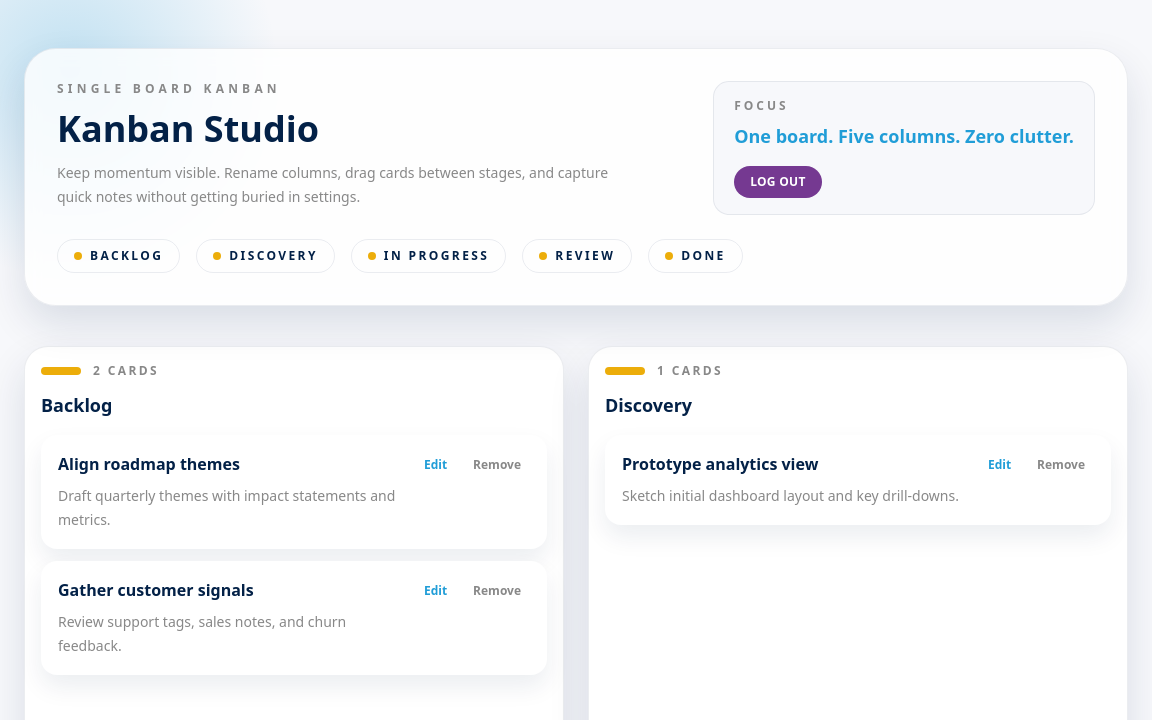
Test: AppShell › flushes pending board save before logging out
This screenshot has width=1152, height=720.
Replace the text in the 1st field named "column title" with "Pending Change" at [294, 405], box [41,391,547,419]
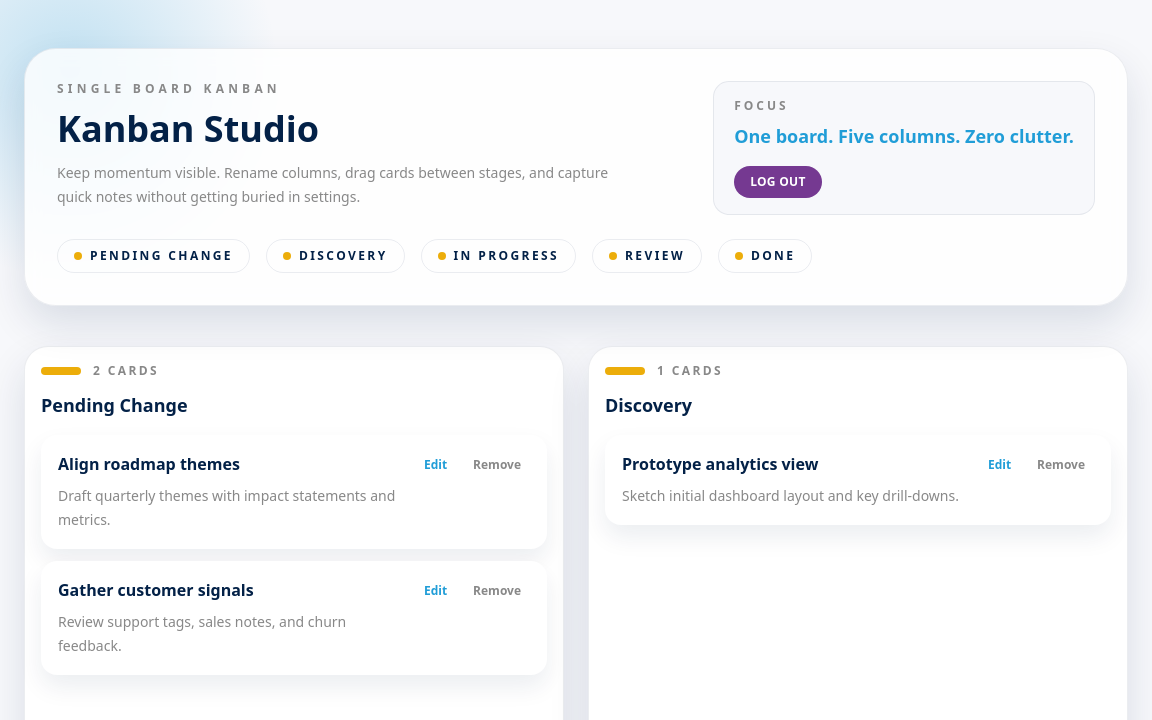
Click the button "Log out" at [778, 182], box [734,166,822,198]
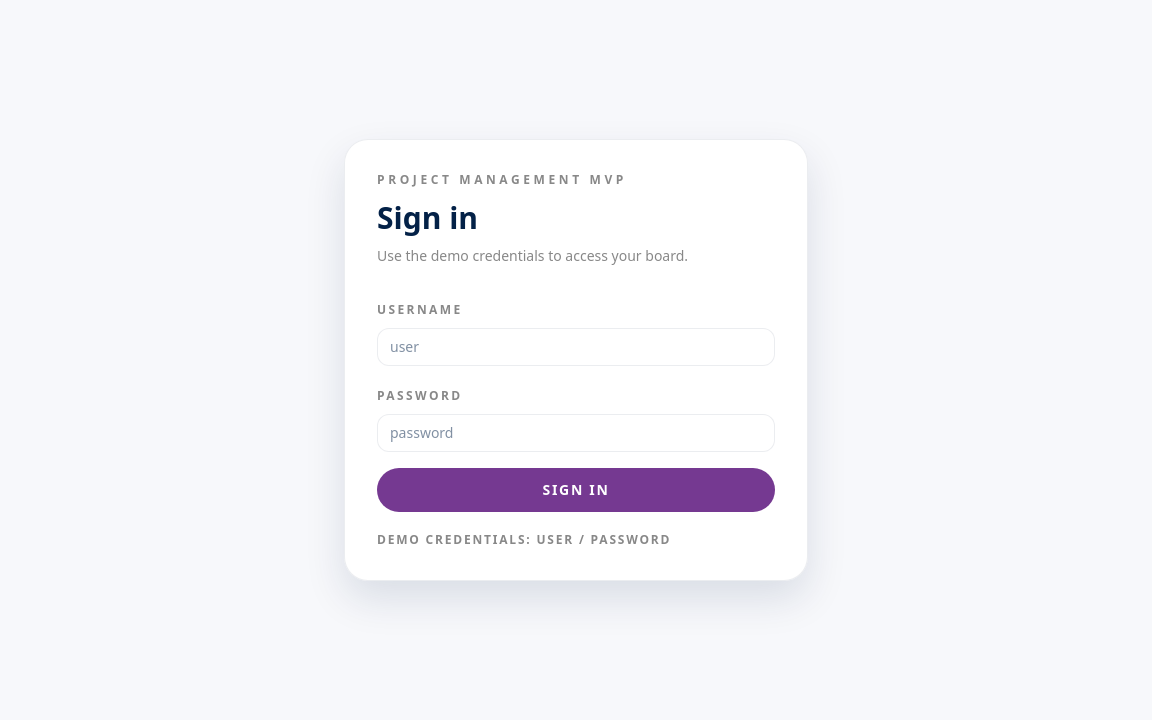
Expected: the heading "Sign in" is shown, [377,197,478,238]
